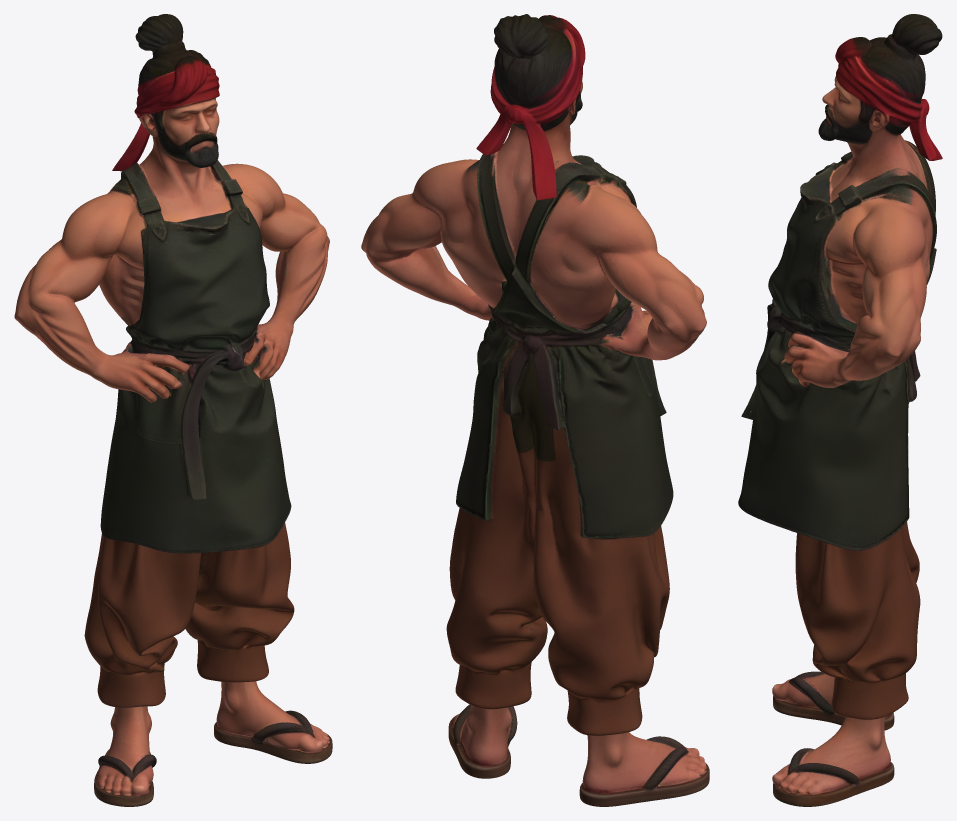
The model's file is Villager_Blacksmith.glb.
3 renders of one model, left to right at view 1: azimuth 30°, elevation 25°; view 2: azimuth 150°, elevation 25°; view 3: azimuth 270°, elevation 25°, orthographic. The views are drawn at different scales.
Size of the model in its own units: 0.8669 by 1.9 by 0.4795.
Materials: 1 (1 with a texture image).
